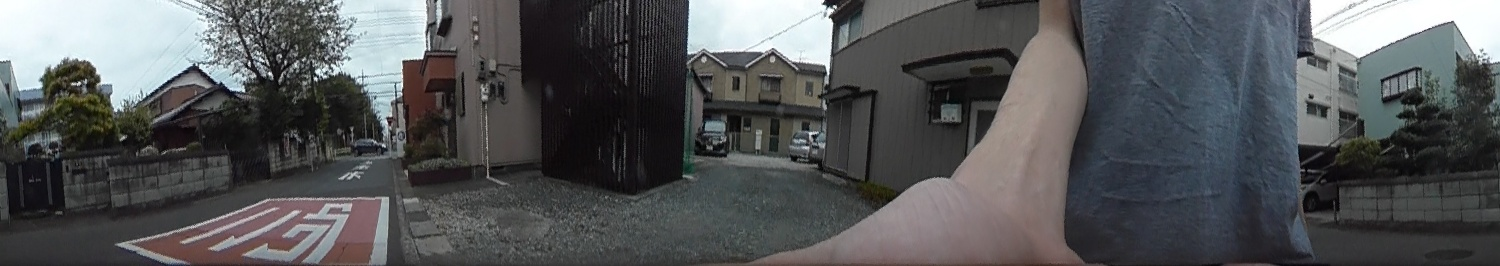difficult_person: (308, 134, 320, 174)
